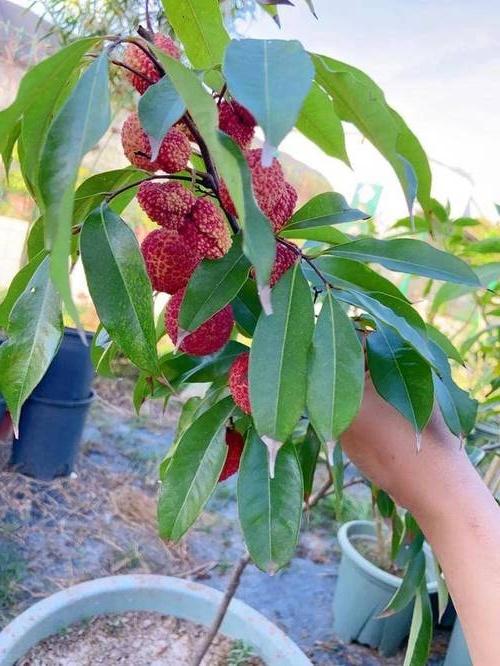Frost_Blight: (142, 80, 288, 288)
